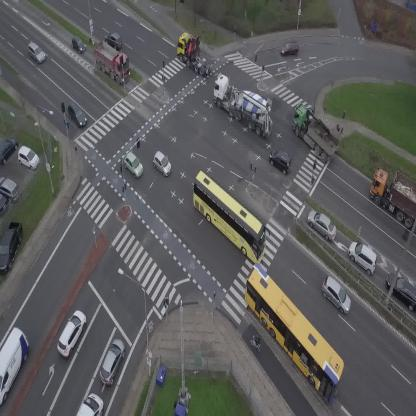bicycle: (253, 334, 260, 352)
bus: (226, 261, 359, 405), (178, 168, 281, 266)
car: (52, 308, 91, 358), (315, 274, 359, 316), (96, 337, 130, 387), (343, 237, 385, 277), (302, 206, 342, 244), (264, 145, 297, 175), (119, 151, 148, 180), (62, 100, 90, 129), (148, 150, 176, 177), (23, 39, 48, 65), (103, 28, 126, 50), (67, 33, 88, 55), (280, 41, 299, 55)
lorry: (202, 71, 286, 141), (283, 101, 346, 164), (0, 325, 37, 403), (85, 36, 139, 87), (169, 26, 215, 83), (77, 393, 104, 416)
